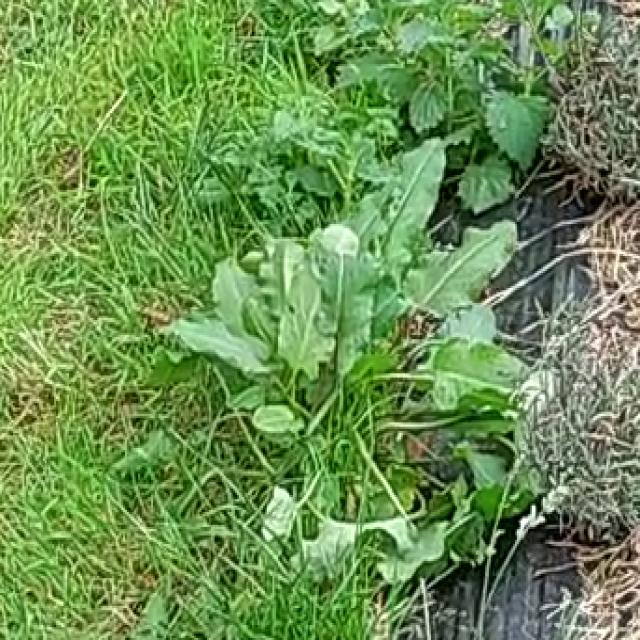organic waste: (158, 141, 550, 544)
